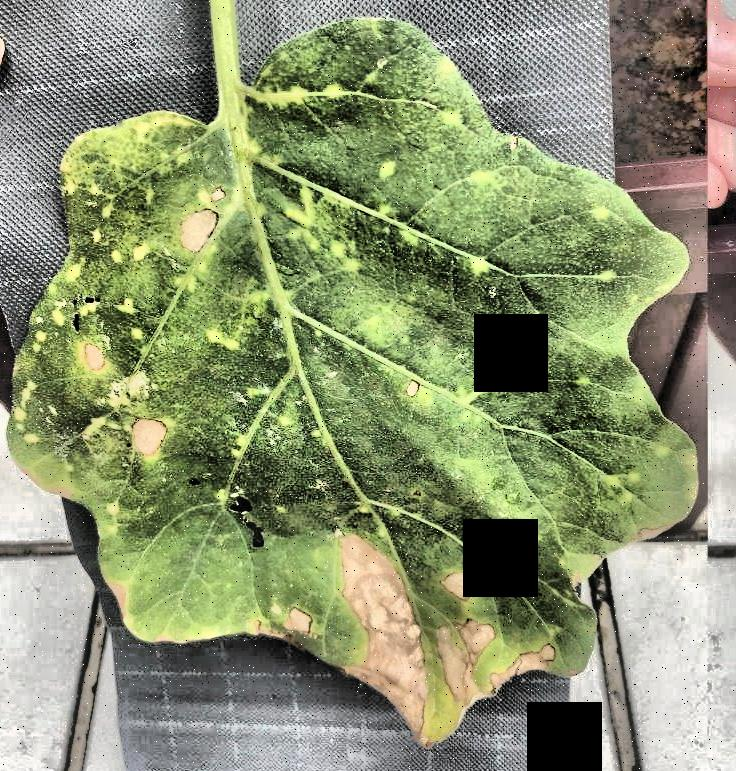Critical Stress: (1, 0, 736, 771)
